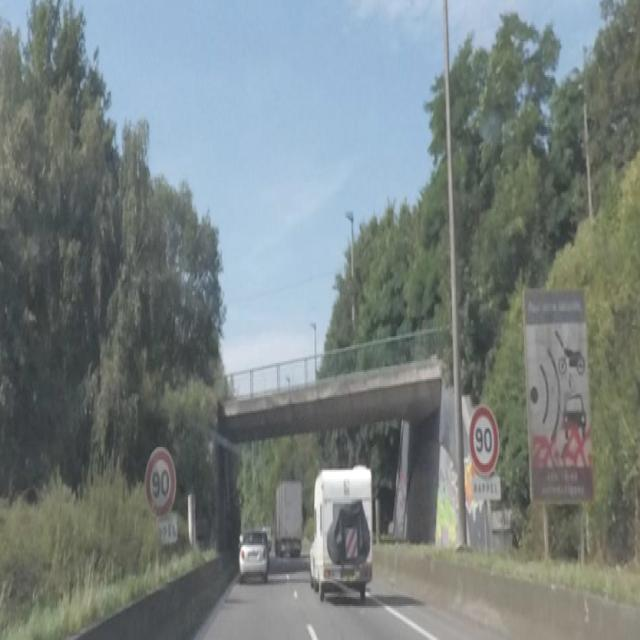speed_90: (471, 405, 499, 478), (147, 448, 176, 517)
